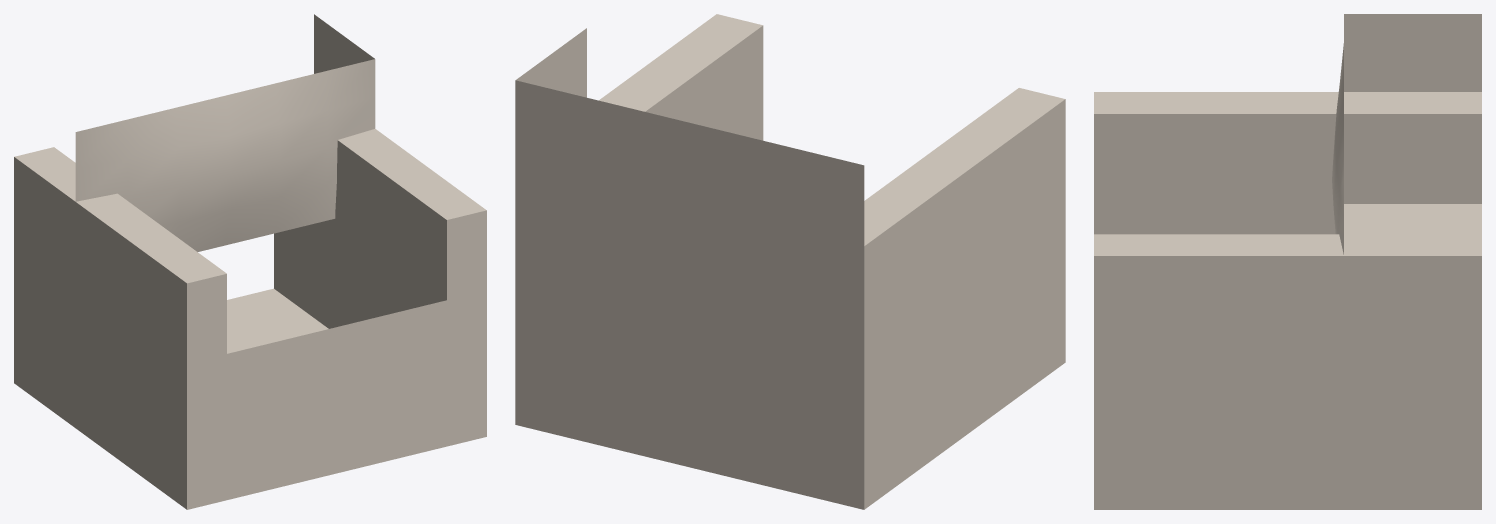
File: armchair.glb
The picture shows the model from 3 angles, left to right: view 1: azimuth 30°, elevation 25°; view 2: azimuth 150°, elevation 25°; view 3: azimuth 270°, elevation 25°; orthographic projection. The views are drawn at different scales.
Size of the model in its own units: 0.9 by 0.85 by 0.9.
